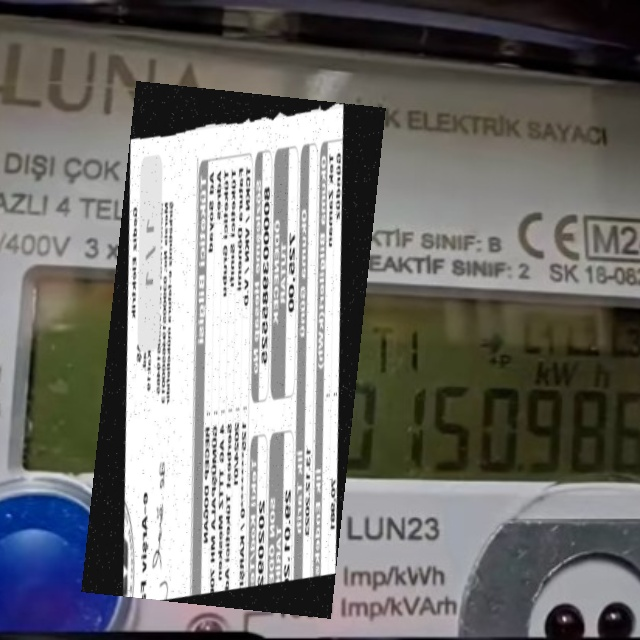electricity-bill: (81, 81, 386, 619)
